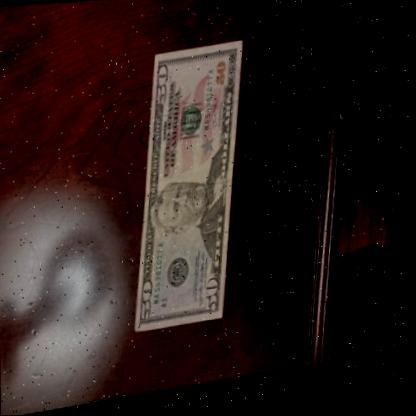dollar_front: (132, 44, 255, 338)
